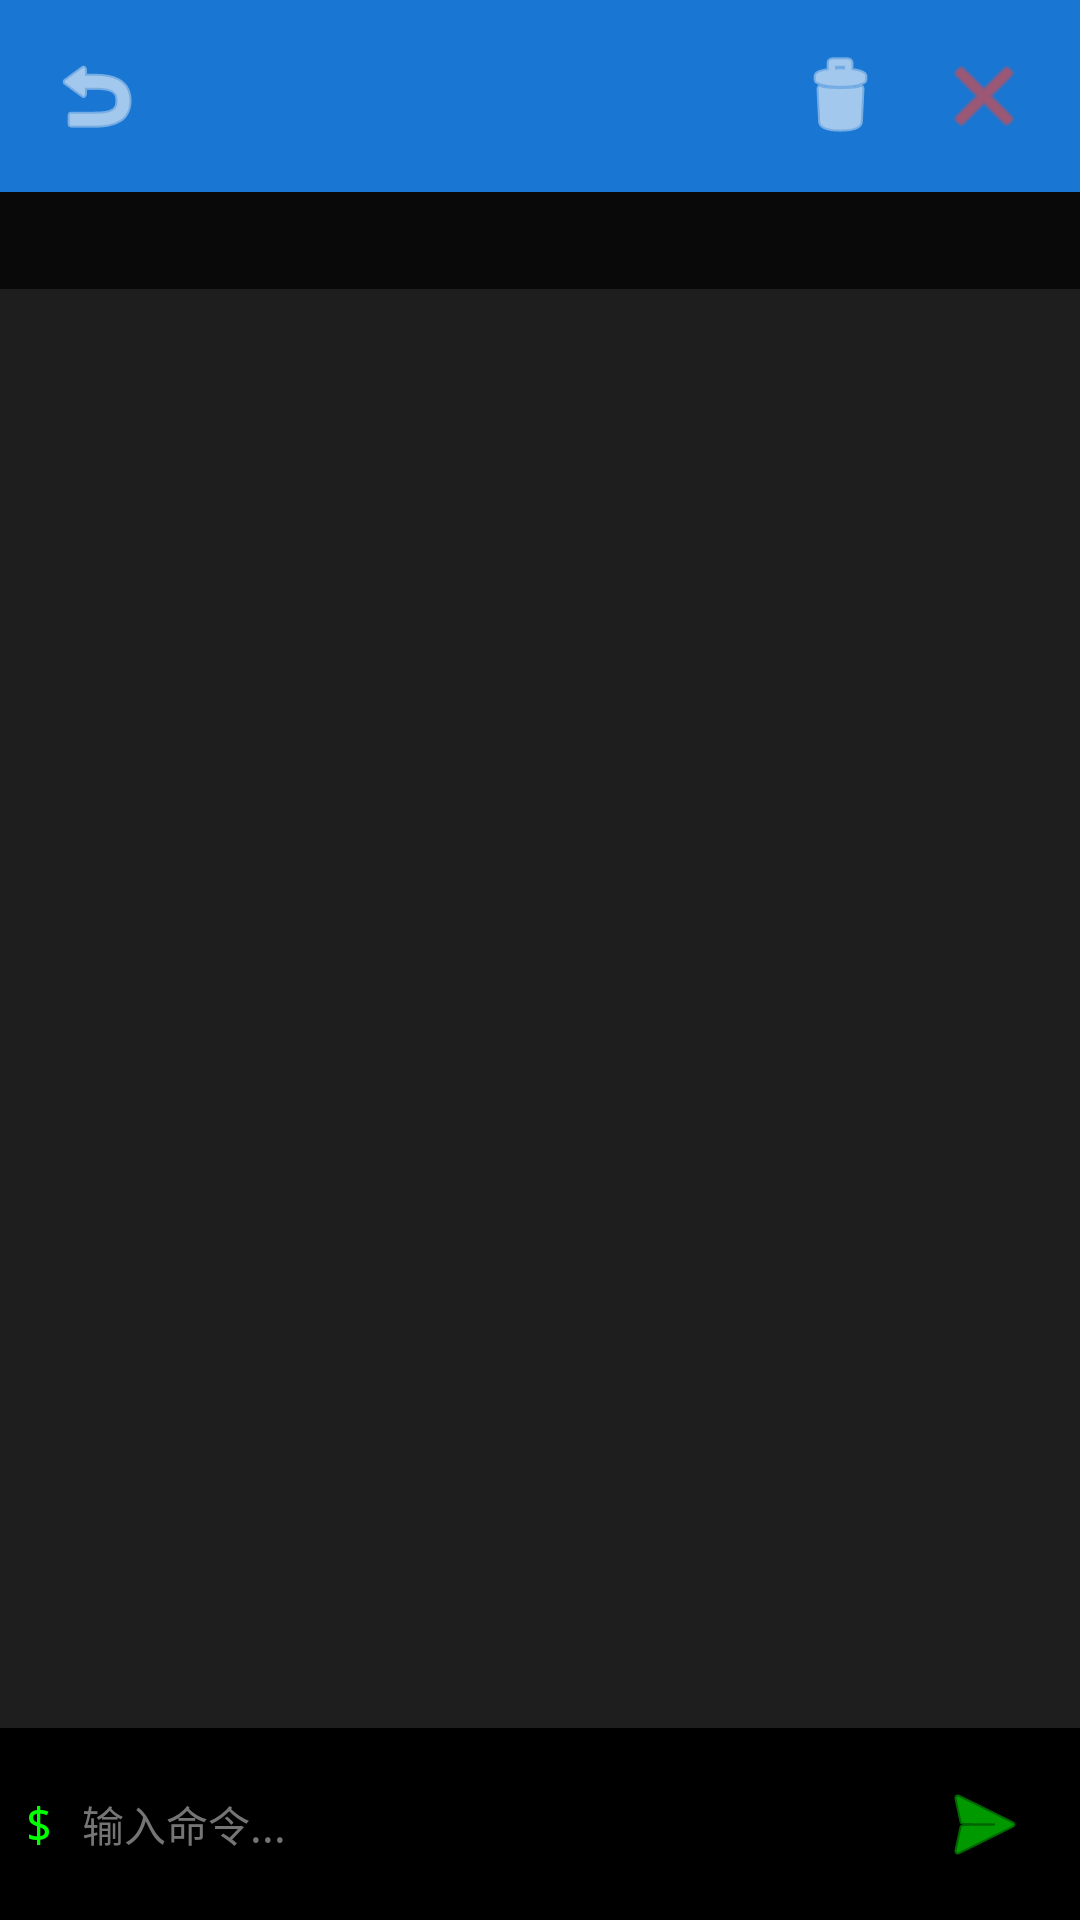

Where to tap for icons on this 1080×1920 app screen, as point (x, y):
停止: point (984, 96)
发送: point (985, 1824)
清屏: point (840, 94)
返回: point (97, 96)
